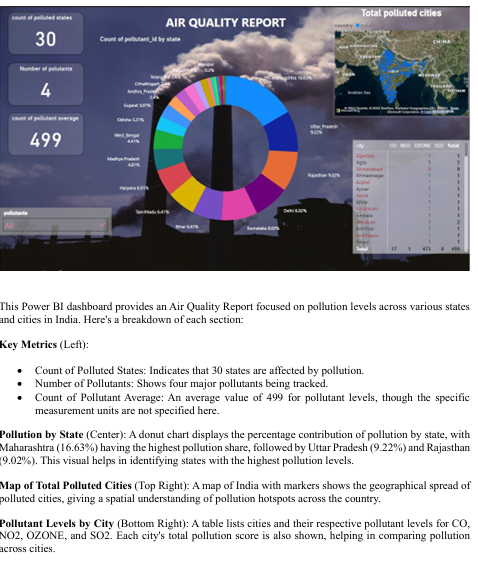

The dashboard page shown, as its layout file describes it:
{"tool":"powerbi","page":{"name":"Page 1","canvas":[1280,720],"ordinal":0},"visuals":[{"type":"map","title":"Total polluted cities","fields":{"Category":["AirQuality Report.city"],"Y":["Avg(AirQuality Report.latitude)"],"X":["Avg(AirQuality Report.longitude)"],"Series":["AirQuality Report.country"]},"box":[907.1,0,372.3,300.5],"z":0},{"type":"textbox","box":[430.9,13.2,370.4,62.4],"z":1000},{"type":"card","title":"count of polluted states","fields":{"Values":["Count(AirQuality Report.state)"]},"box":[23.9,12.9,205.9,115.8],"z":2000},{"type":"card","title":"Number of polutants","fields":{"Values":["Count(AirQuality Report.pollutant_id)"]},"box":[23.9,150.7,205.9,115.8],"z":3000},{"type":"card","title":"count of pollutant average","fields":{"Values":["CountNonNull(AirQuality Report.pollutant_avg)"]},"box":[23.9,286.8,205.9,117.6],"z":4000},{"type":"donutChart","fields":{"Category":["AirQuality Report.state"],"Y":["CountNonNull(AirQuality Report.pollutant_id)"]},"box":[270,75.7,691.4,592.9],"z":5000},{"type":"slicer","fields":{"Values":["AirQuality Report.pollutant_id"]},"box":[0,544.9,305.8,74.8],"z":6000},{"type":"pivotTable","fields":{"Rows":["AirQuality Report.city"],"Values":["CountNonNull(AirQuality Report.pollutant_avg)"],"Columns":["AirQuality Report.pollutant_id"]},"box":[961.4,360.3,318,308.8],"z":7000}]}

Visuals, with their boxes on the page's 1280x720 design canvas (x1, y1, x2, y2). These are canvas units, not pixel positions in the 478x567 screenshot, which may show the page scaled, cropped or inside an application window:
"Total polluted cities" map: 907/0/1279/300
textbox: 431/13/801/76
"count of polluted states" card: 24/13/230/129
"Number of polutants" card: 24/151/230/266
"count of pollutant average" card: 24/287/230/404
donutChart - AirQuality Report.state x CountNonNull(AirQuality Report.pollutant_id): 270/76/961/669
slicer - AirQuality Report.pollutant_id: 0/545/306/620
pivotTable - AirQuality Report.city x CountNonNull(AirQuality Report.pollutant_avg): 961/360/1279/669
